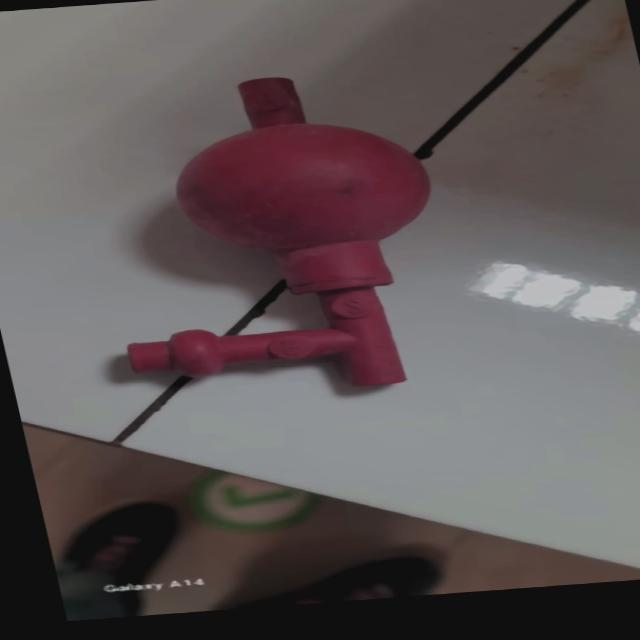Droppers: (54, 58, 542, 410)
